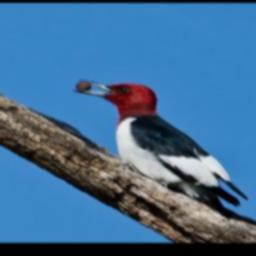Woodpecker: (70, 76, 250, 211)
